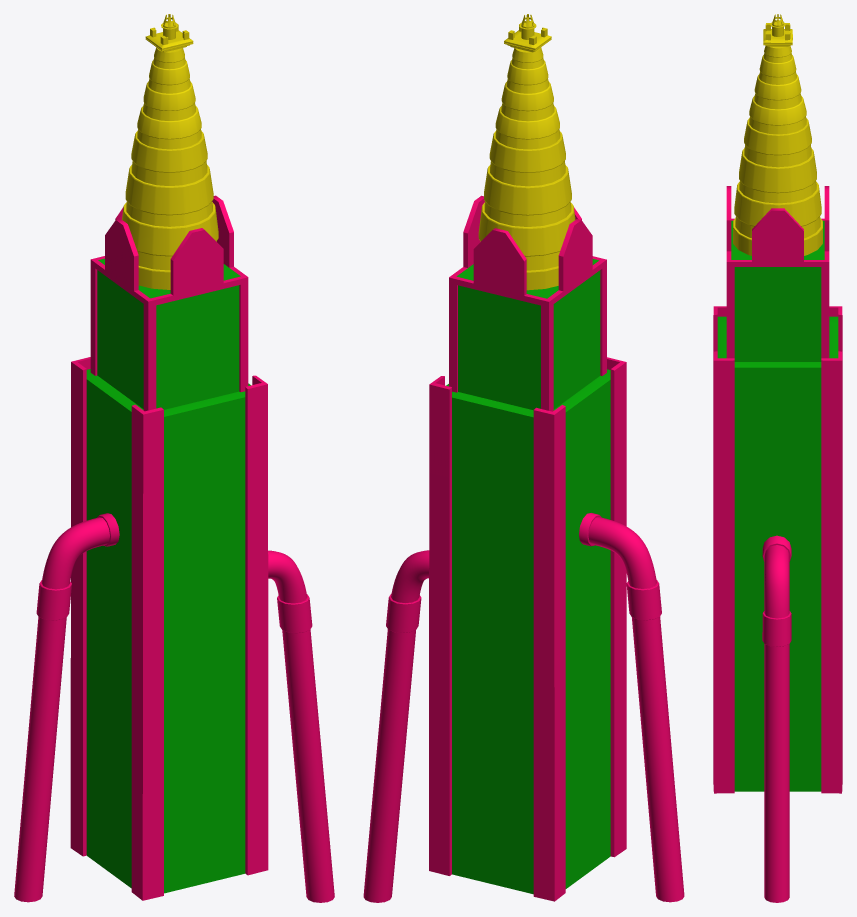
Rendered from m_tower.FBX.
The picture shows the model from 3 angles, left to right: view 1: azimuth 30°, elevation 25°; view 2: azimuth 150°, elevation 25°; view 3: azimuth 270°, elevation 25°; orthographic projection. The views are drawn at different scales.
Parts seen in each view (by area): view 1: Box001; view 2: Box001; view 3: Box001.
Boxes of the visible parts, x1,y1,x2,y2 form: Box001: [14, 14, 334, 902]; Box001: [363, 14, 684, 902]; Box001: [713, 14, 842, 902].
Bounding box in the file's own units: 21.48 × 59.43 × 8.51.
